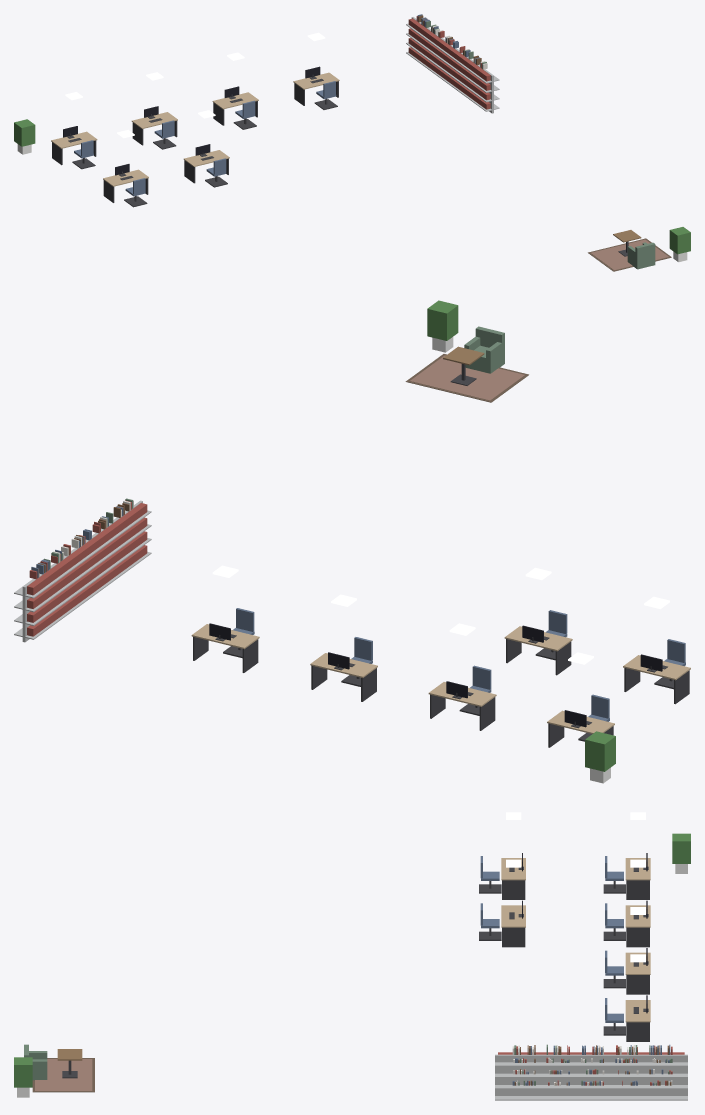
Rendered from fine-s3.glb.
3 renders of one model, top to bottom at view 1: azimuth 30°, elevation 25°; view 2: azimuth 150°, elevation 25°; view 3: azimuth 270°, elevation 25°, orthographic. The views are drawn at different scales.
Parts seen in each view (by area): view 1: soft-s3, shelving.024, shelving.020, office-desk-real.016, office-desk-real.013, office-desk-real.014, office-desk-real.017, office-desk-real.012, office-desk-real.015, shelving.023, shelving.022, shelving.021 (+9 smaller); view 2: soft-s3, shelving.020, shelving.021, shelving.023, shelving.024, office-desk-real.013, office-desk-real.015, office-desk-real.016, office-desk-real.014, office-desk-real.017, plant-medium.004, sofa.002 (+3 smaller); view 3: soft-s3, shelving.020, shelving.023, shelving.024, shelving.021, shelving.022, office-desk-real.015, office-desk-real.017, office-desk-real.014, office-desk-real.013, office-desk-real.012, office-desk-real.016 (+10 smaller).
Part boxes in pixels (x1,y1,x2,y2): soft-s3: (416, 14, 671, 271); shelving.024: (463, 59, 499, 113); shelving.020: (406, 17, 432, 69); office-desk-real.016: (103, 164, 148, 202); office-desk-real.013: (131, 106, 177, 145); office-desk-real.014: (212, 86, 258, 125); office-desk-real.017: (183, 144, 229, 183); office-desk-real.012: (51, 126, 97, 165); office-desk-real.015: (293, 66, 339, 105); shelving.023: (448, 49, 479, 100); shelving.022: (434, 38, 462, 89); shelving.021: (420, 28, 447, 79); soft-s3: (29, 354, 528, 579); shelving.020: (14, 562, 67, 642); shelving.021: (48, 548, 88, 623); shelving.023: (90, 517, 126, 592); shelving.024: (109, 500, 151, 578); office-desk-real.013: (428, 681, 496, 730); office-desk-real.015: (191, 623, 259, 672); office-desk-real.016: (623, 654, 690, 704); office-desk-real.014: (310, 652, 377, 701); office-desk-real.017: (504, 625, 572, 675); plant-medium.004: (427, 300, 458, 352); sofa.002: (464, 326, 504, 373); soft-s3: (32, 1044, 672, 1092); shelving.020: (632, 1052, 687, 1100); shelving.023: (529, 1052, 585, 1100); shelving.024: (495, 1052, 550, 1100); shelving.021: (597, 1052, 653, 1100); shelving.022: (563, 1052, 619, 1100); office-desk-real.015: (625, 995, 650, 1041); office-desk-real.017: (501, 900, 525, 947); office-desk-real.014: (625, 948, 650, 994); office-desk-real.013: (625, 900, 650, 947); office-desk-real.012: (625, 853, 650, 899); office-desk-real.016: (501, 853, 525, 899).
Size of the model in its own units: 18.01 by 2.64 by 21.76.
